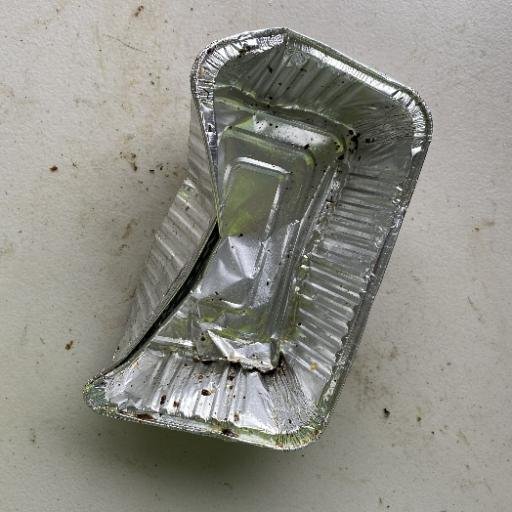Metal: (81, 26, 434, 452)
